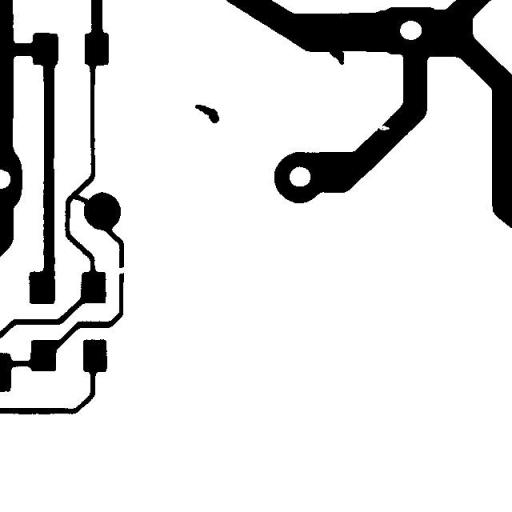copper: (188, 97, 226, 130)
mousebite: (371, 116, 397, 138)
open: (108, 259, 134, 282)
short: (64, 187, 95, 215)
spur: (322, 42, 351, 72)
